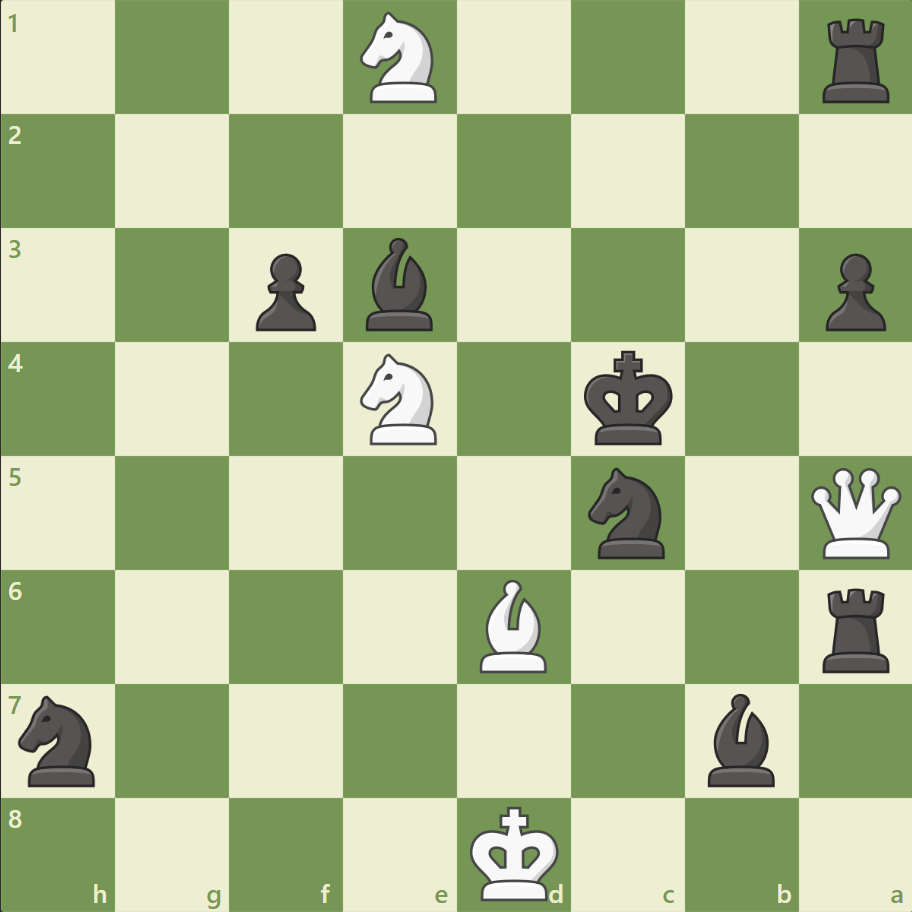B: (471, 574, 555, 676)
K: (465, 798, 565, 906)
N: (351, 7, 449, 110), (351, 348, 449, 450)
Q: (805, 463, 904, 562)
b: (698, 687, 782, 790), (358, 233, 442, 336)
k: (579, 344, 679, 452)
n: (11, 688, 108, 791), (579, 461, 676, 564)
p: (247, 246, 322, 337), (815, 246, 889, 337)
r: (814, 579, 897, 676), (814, 12, 897, 109)
